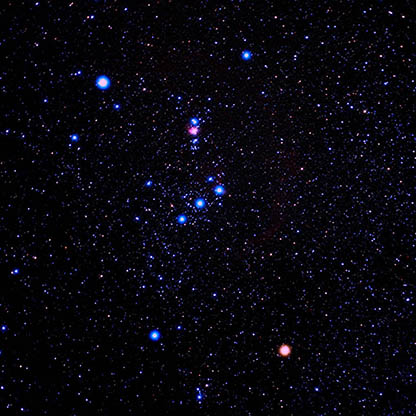Orion: (269, 332, 299, 370), (91, 69, 116, 98), (169, 207, 193, 234), (212, 175, 235, 203), (233, 43, 261, 64), (143, 324, 165, 347), (194, 192, 210, 218)
